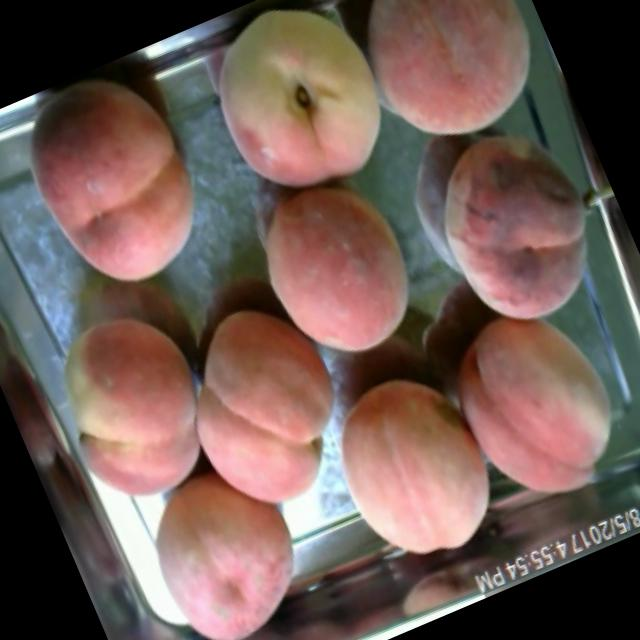Fruit: (389, 82, 637, 358), (0, 47, 236, 317), (142, 273, 380, 540), (222, 138, 452, 387), (26, 280, 252, 531), (173, 0, 415, 232), (300, 348, 518, 592), (429, 279, 640, 524), (110, 436, 335, 640), (327, 0, 579, 181)
